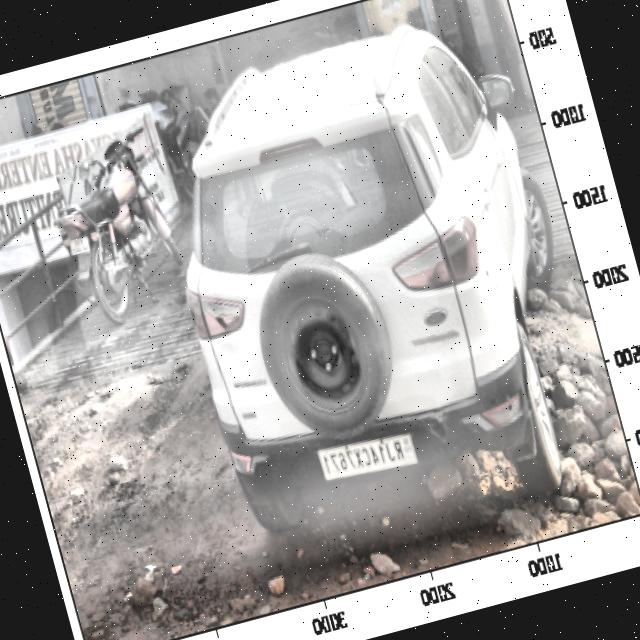license_plate: (312, 427, 415, 488)
